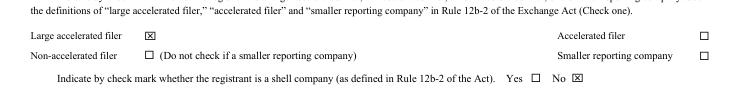table: (29, 28, 708, 61)
table column: (131, 28, 455, 61), (455, 28, 685, 61), (29, 28, 131, 61), (685, 28, 708, 61)
table column header: (29, 28, 708, 44)
table row: (29, 44, 708, 61), (29, 28, 708, 44)
